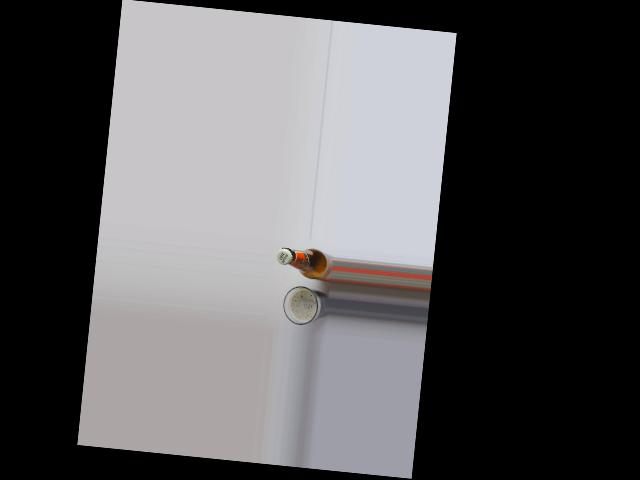beer: (275, 245, 335, 282)
